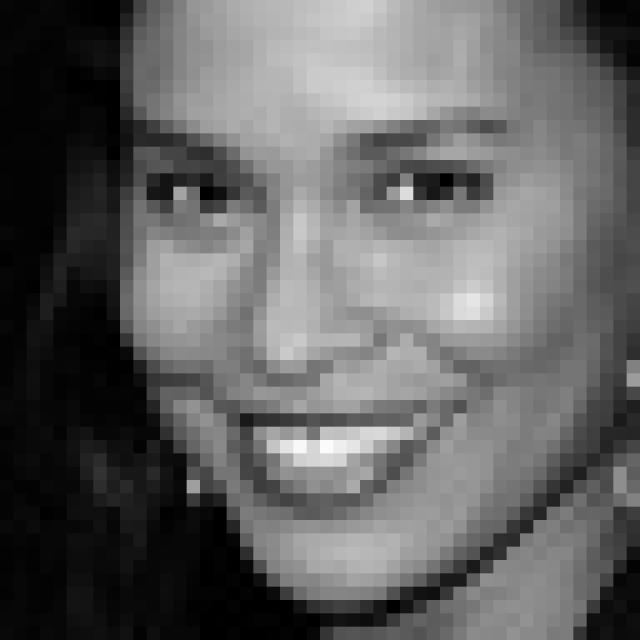happy: (135, 105, 528, 527)
